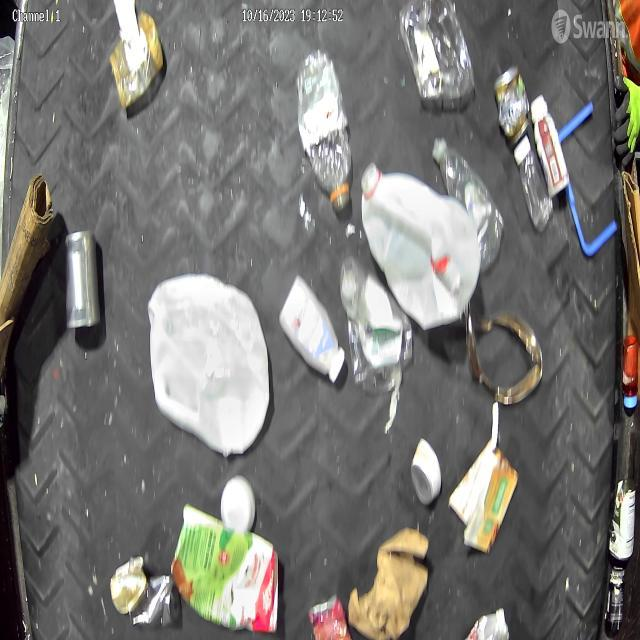can: (62, 230, 103, 332), (493, 59, 531, 150), (128, 572, 182, 628), (608, 477, 638, 561), (409, 436, 444, 508), (308, 591, 353, 640), (602, 564, 626, 639)
milk_jug: (146, 272, 272, 460), (360, 161, 483, 335)
plastic_bottle: (294, 45, 354, 218), (428, 136, 504, 272)
